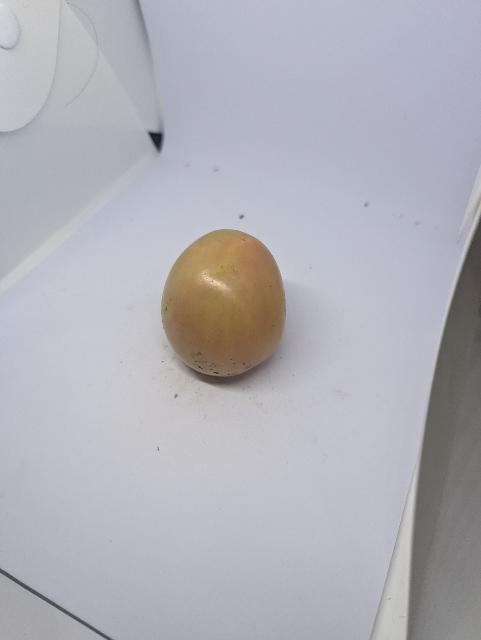turning: (154, 223, 297, 397)
